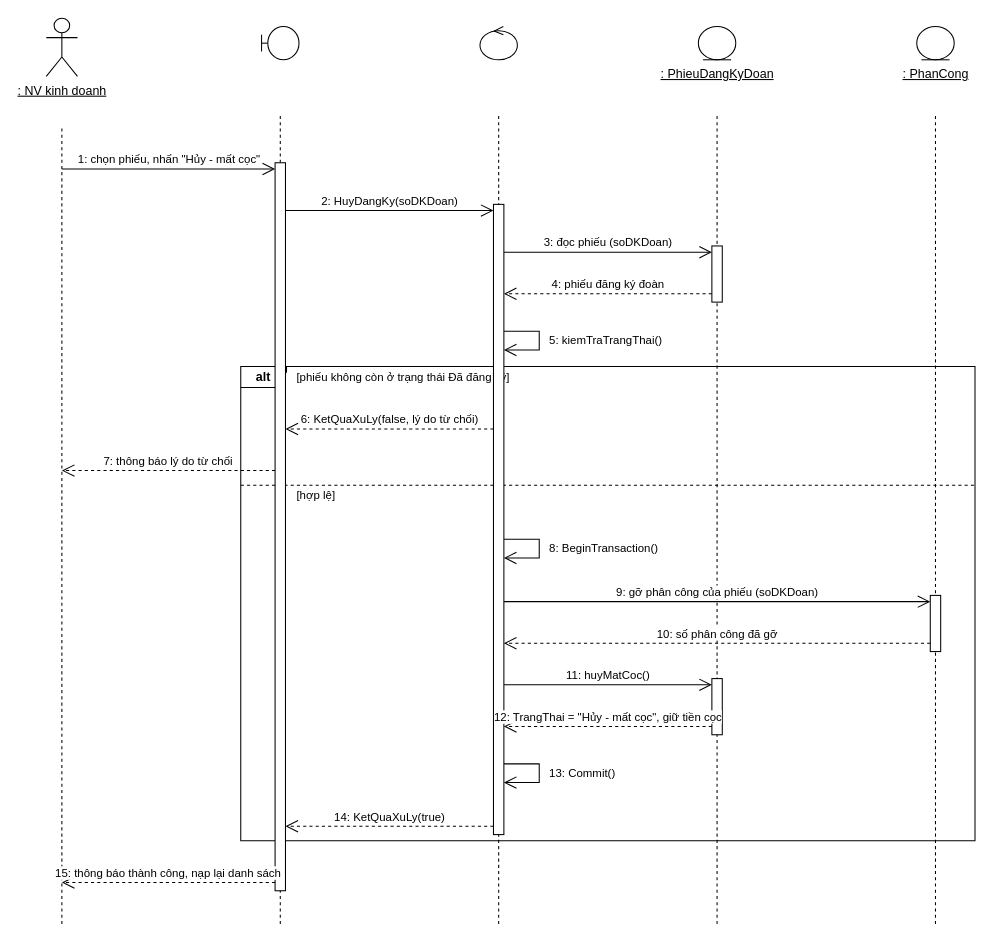
This 994x943 diagram has some shape labels left out. Here are the shapes that lost their labels. From the top down, the centre of each, then its label:
At point 280,42: ": FrmDangKyDoan".
At point 498,42: ": DangKyDoanService".
